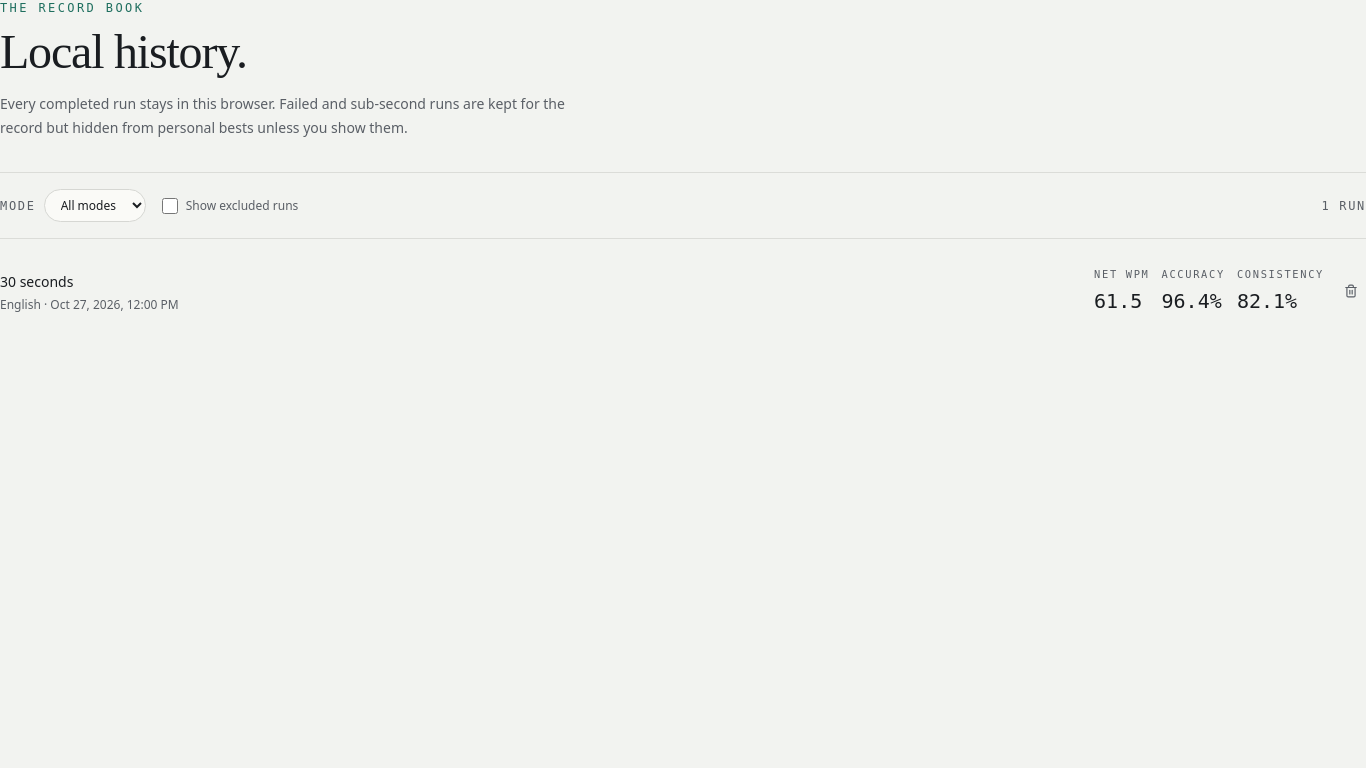
Test: history page › deletes only after confirmation, then removes the row in place
Expected: the link "30 seconds" is shown, [0,272,73,291]
Click the button named "delete run": (1351, 291) [1336,276,1365,306]
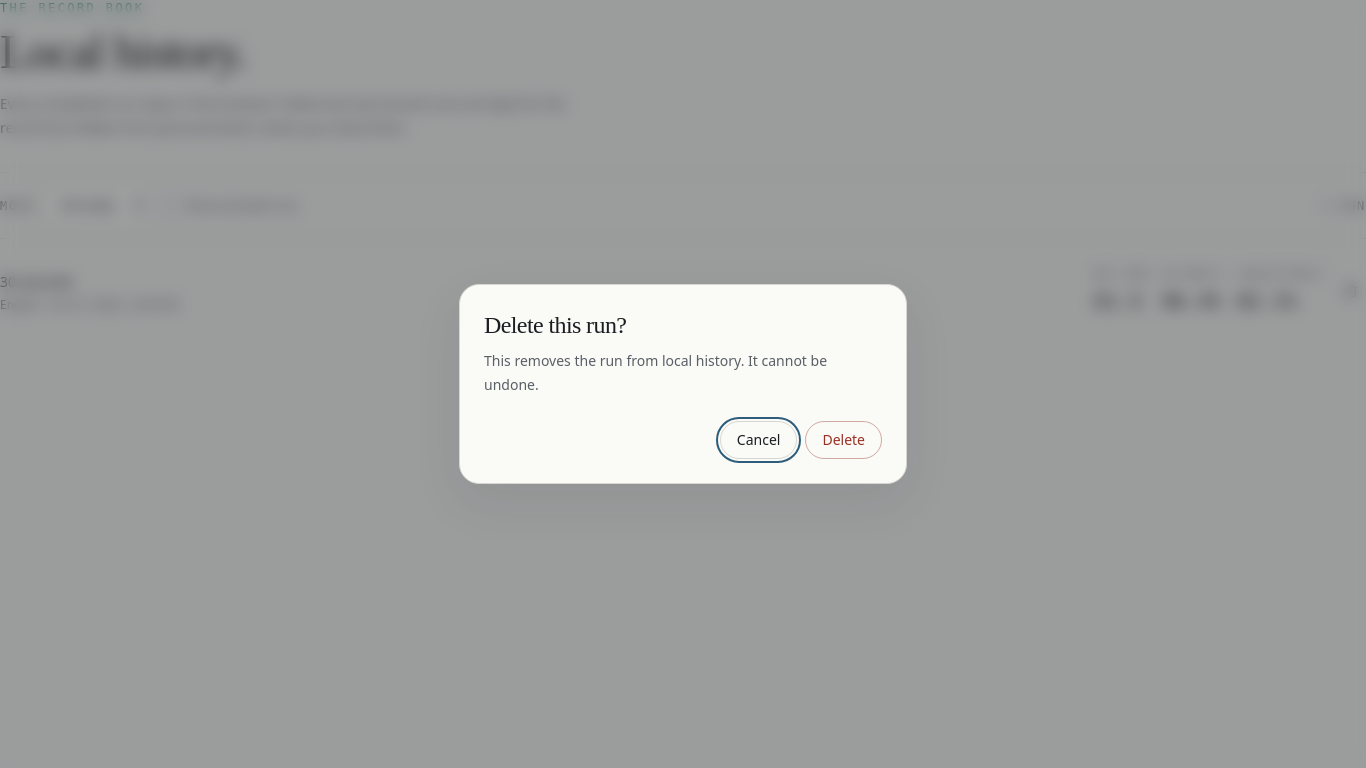
Now the dialog is shown, box [459,284,907,484]
Click the button "Cancel": (759, 440) [720,421,797,459]
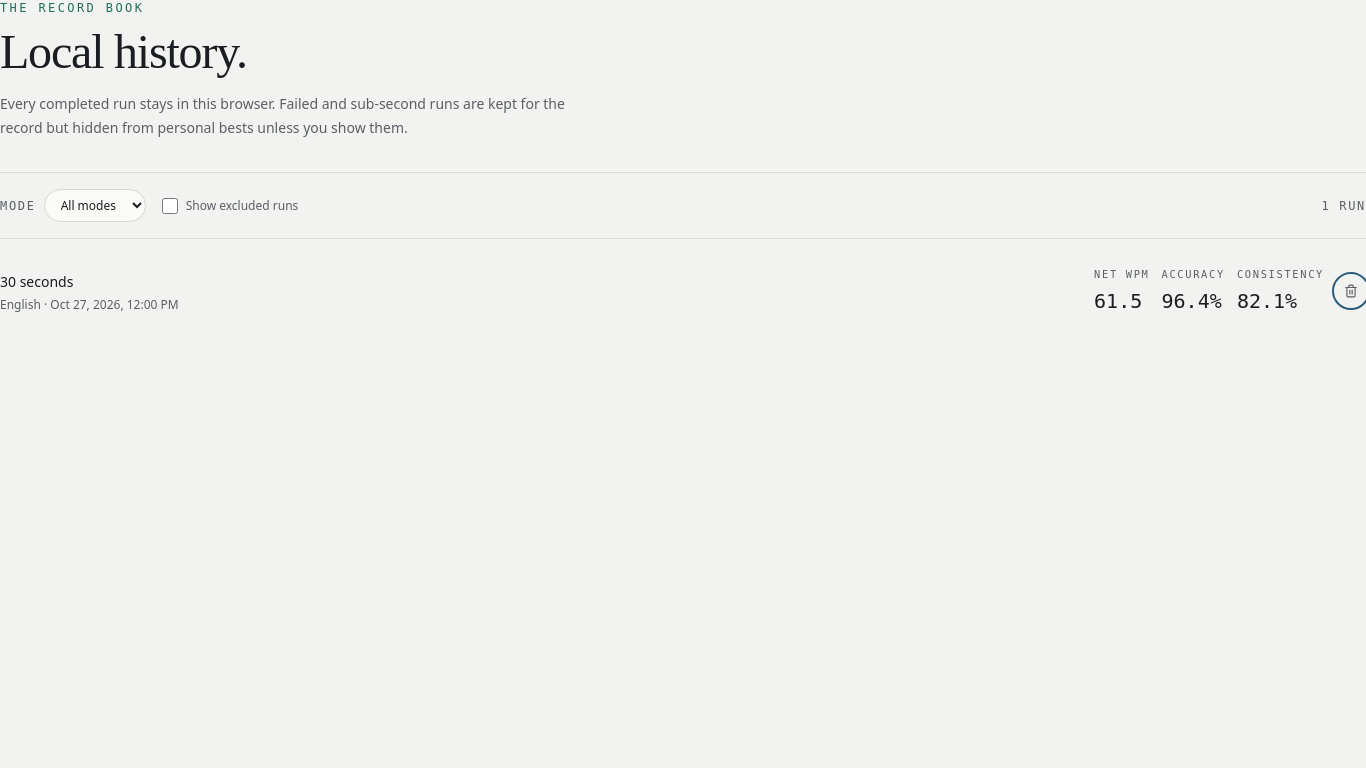
Now the dialog is gone
Click the button named "delete run": (1351, 291) [1336,276,1365,306]
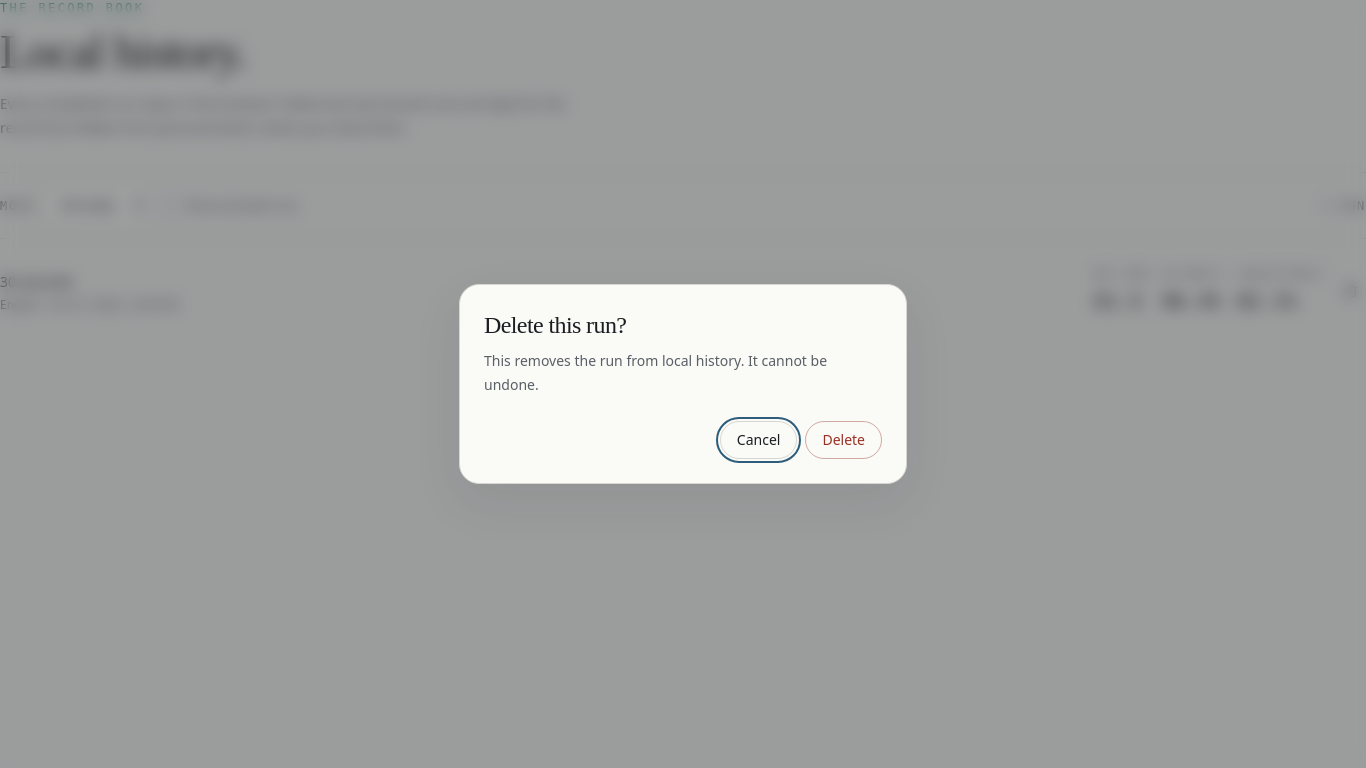
Click the button "Delete": (844, 440) [805,421,882,459]
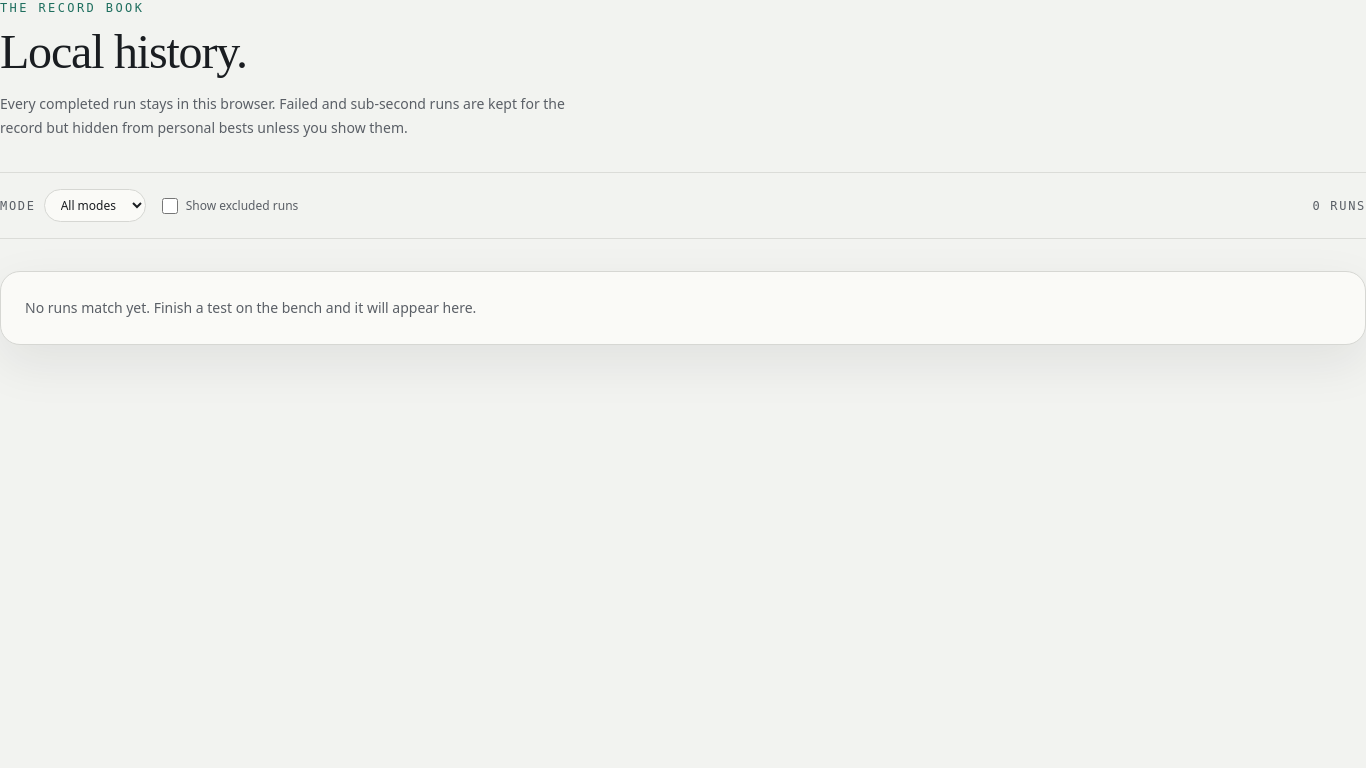
Now the link "30 seconds" is gone
Now the text "No runs match yet" is shown, box [25,298,476,317]
